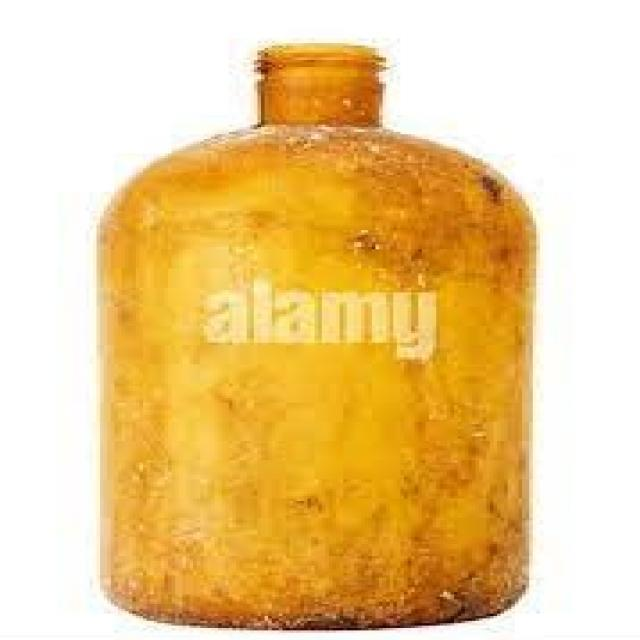HDPE Plastic: (89, 56, 543, 632)
